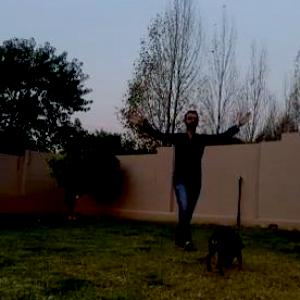takeoff: (132, 90, 263, 257)
